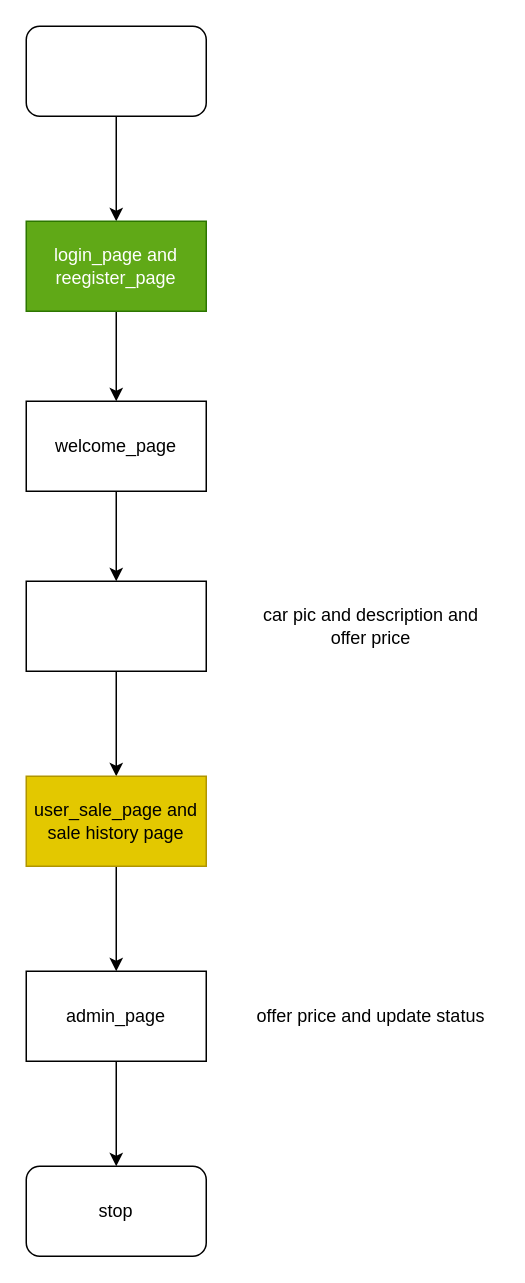
Some shapes in this 525 by 1283 pixel diagram are drawn without their labels. Here are the shapes that lost their labels. From the top down, the box of each, then its label:
(25, 25, 206, 116): start
(25, 580, 206, 671): main_page
